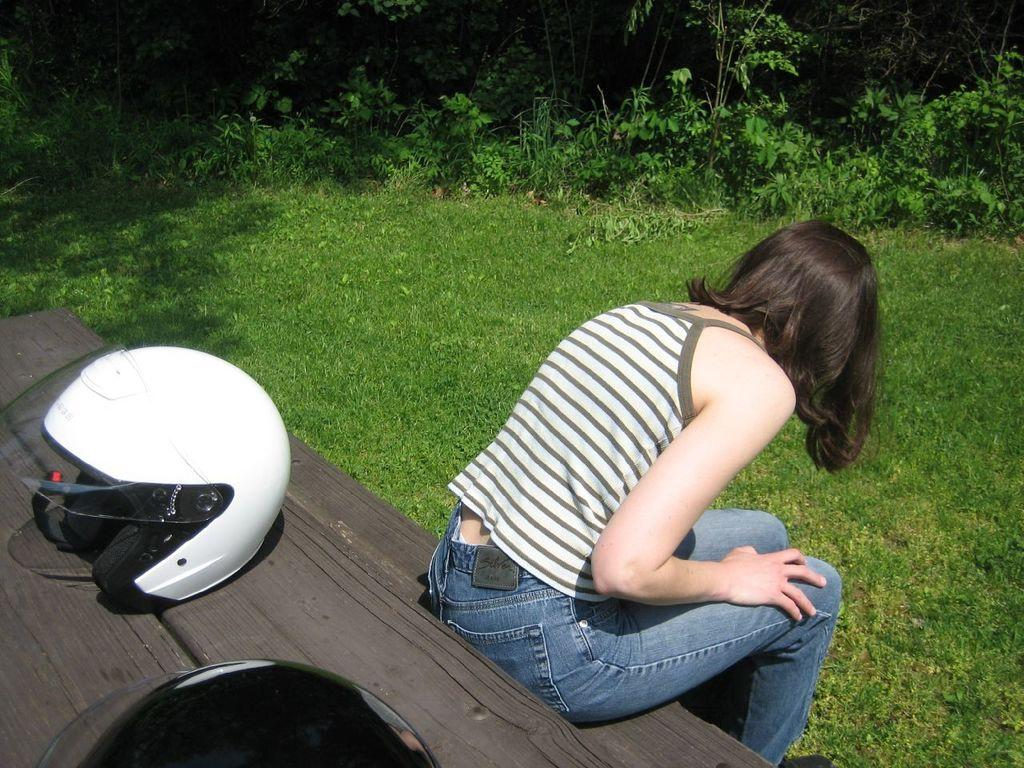helmet: (0, 343, 292, 613)
nohelmet: (724, 216, 882, 401)
